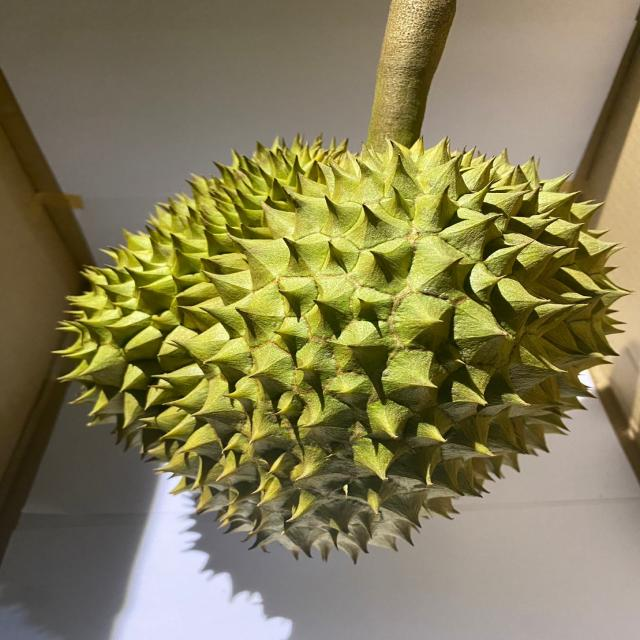immature: (54, 136, 632, 568)
